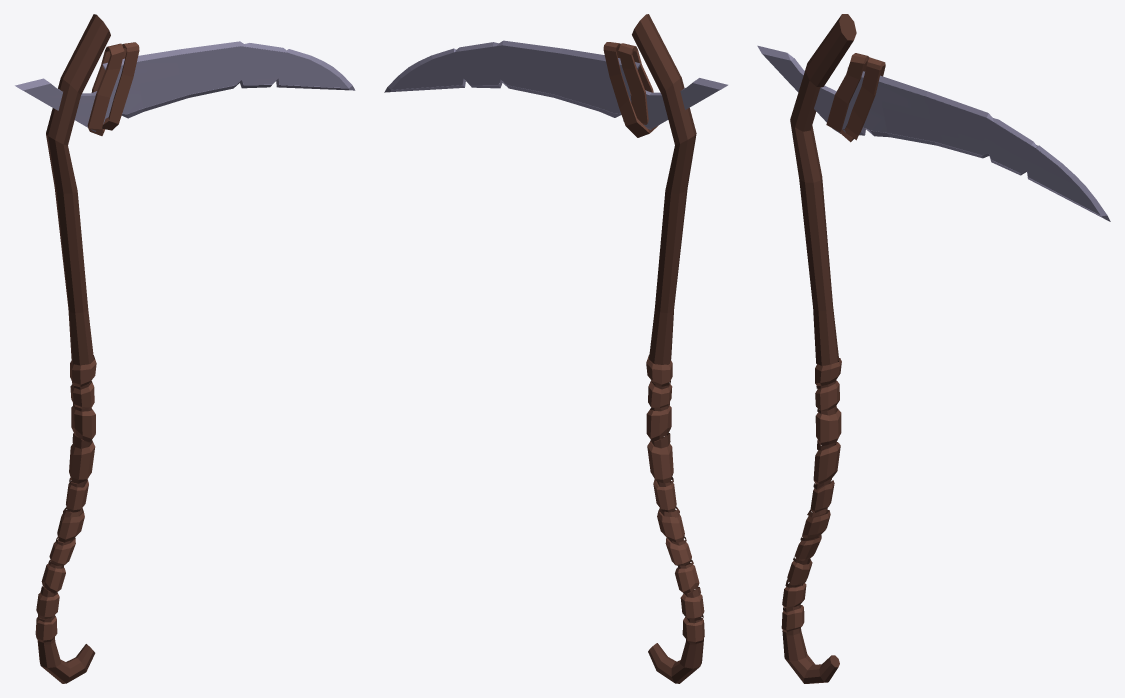
File: armory-necromancer-1.glb
3 views of the same model, side by side, from view 1: azimuth 30°, elevation 25°; view 2: azimuth 150°, elevation 25°; view 3: azimuth 330°, elevation 25° (orthographic). The views are drawn at different scales.
Visible parts, largest first — view 1: Scythe_Cylinder.005; view 2: Scythe_Cylinder.005; view 3: Scythe_Cylinder.005.
Part boxes in pixels (x1,y1,x2,y2): Scythe_Cylinder.005: (15, 14, 355, 683); Scythe_Cylinder.005: (384, 14, 727, 683); Scythe_Cylinder.005: (757, 14, 1110, 683).
Size of the model in its own units: 3.11 by 5.73 by 0.2577.
